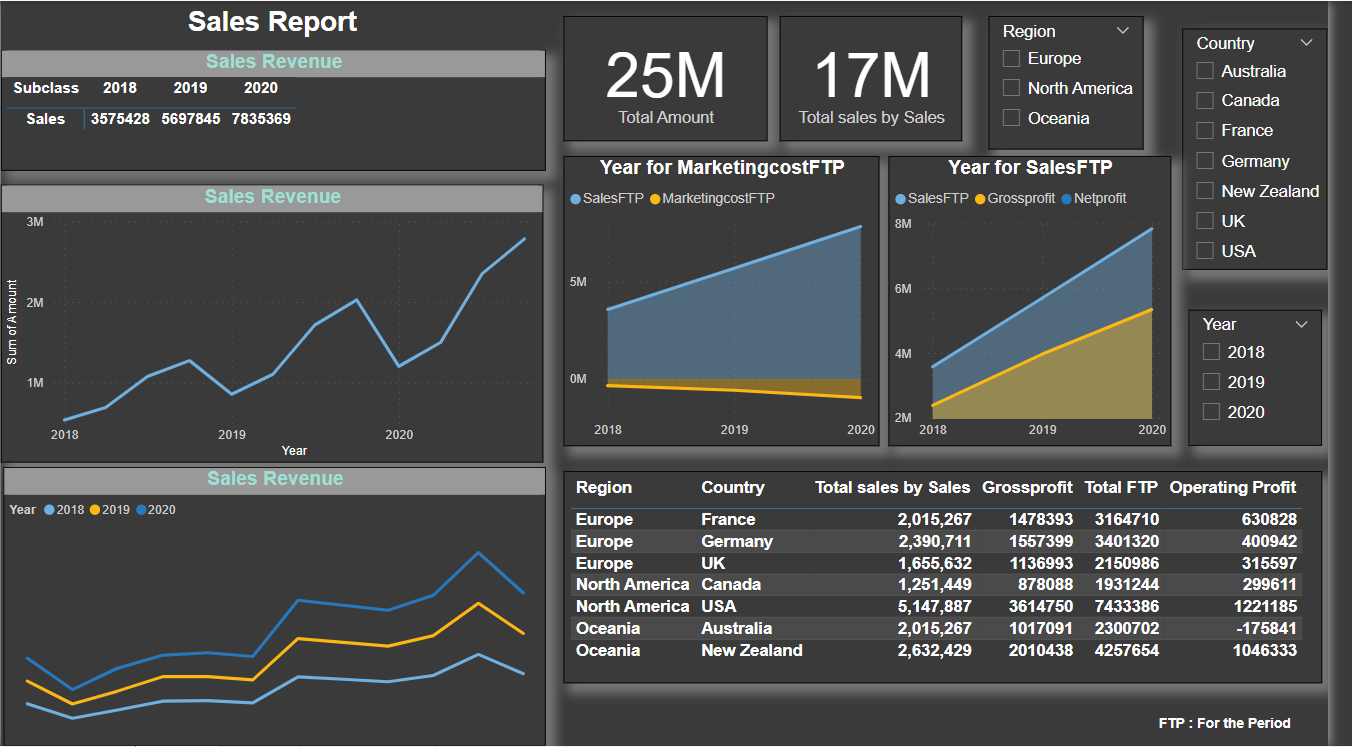

What the dashboard file says about the page in this screenshot:
{"tool":"powerbi","page":{"name":"Sales","canvas":[1280,720],"ordinal":0},"visuals":[{"type":"pivotTable","title":"Sales Revenue","fields":{"Rows":["tbl_ChartofAccounts.SubClass"],"Values":["Sum(tbl_GL.Amount)"],"Columns":["tbl_Calendar.Date.Variation.Date Hierarchy.Year","tbl_Calendar.Date.Variation.Date Hierarchy.Quarter","tbl_Calendar.Date.Variation.Date Hierarchy.Month","tbl_Calendar.Date.Variation.Date Hierarchy.Day"]},"box":[0,47,525.8,117],"z":0},{"type":"lineChart","title":"Sales Revenue","fields":{"Category":["tbl_Calendar.Date.Variation.Date Hierarchy.Year","tbl_Calendar.Date.Variation.Date Hierarchy.Quarter","tbl_Calendar.Date.Variation.Date Hierarchy.Month","tbl_Calendar.Date.Variation.Date Hierarchy.Day"],"Y":["Sum(tbl_GL.Amount)"]},"box":[0,177.3,523.4,267.7],"z":1000},{"type":"lineChart","title":"Sales Revenue","fields":{"Category":["tbl_Calendar.Date.Variation.Date Hierarchy.Year","tbl_Calendar.Date.Variation.Date Hierarchy.Quarter","tbl_Calendar.Date.Variation.Date Hierarchy.Month","tbl_Calendar.Date.Variation.Date Hierarchy.Day"],"Y":["Sum(tbl_GL.Amount)"],"Series":["tbl_Calendar.Date.Variation.Date Hierarchy.Year"]},"box":[2.4,449.8,523.4,270.2],"z":2000},{"type":"slicer","fields":{"Values":["tbl_territory.Country"]},"box":[1139.7,26.5,139.9,232.8],"z":3000},{"type":"tableEx","fields":{"Values":["tbl_territory.Region","tbl_territory.Country","All Measures.Total sales by Sales","All Measures.Grossprofit","All Measures.Total FTP","All Measures.Operating Profit"]},"box":[542.7,453.5,732.1,205],"z":4000},{"type":"card","fields":{"Values":["All Measures.Total Amount"]},"box":[542.7,14.5,196.6,120.6],"z":5000},{"type":"card","fields":{"Values":["All Measures.Total sales by Sales"]},"box":[751.4,14.5,176.1,120.6],"z":6000},{"type":"slicer","fields":{"Values":["tbl_territory.Region"]},"box":[952.8,14.5,149.5,129],"z":7000},{"type":"slicer","fields":{"Values":["tbl_Calendar.Year"]},"box":[1145.7,297.9,129,131.5],"z":8000},{"type":"textbox","box":[0,0,523.4,47],"z":9000},{"type":"areaChart","title":"Year for MarketingcostFTP ","fields":{"Category":["tbl_Calendar.Date.Variation.Date Hierarchy.Year","tbl_Calendar.Date.Variation.Date Hierarchy.Quarter","tbl_Calendar.Date.Variation.Date Hierarchy.Month","tbl_Calendar.Date.Variation.Date Hierarchy.Day"],"Y":["All Measures.SalesFTP","All Measures.MarketingcostFTP"]},"box":[542.7,149.5,305.1,279.8],"z":10000},{"type":"areaChart","title":"Year for SalesFTP","fields":{"Category":["tbl_Calendar.Date.Variation.Date Hierarchy.Year","tbl_Calendar.Date.Variation.Date Hierarchy.Quarter","tbl_Calendar.Date.Variation.Date Hierarchy.Month","tbl_Calendar.Date.Variation.Date Hierarchy.Day"],"Y":["All Measures.SalesFTP","All Measures.Grossprofit","All Measures.Netprofit"]},"box":[856.3,149.5,272.6,279.8],"z":11000},{"type":"textbox","box":[1112,685,167.6,35],"z":12000}]}

Visuals, with their boxes in screenshot pixels (x1, y1, x2, y2), scaled from the page's 1280x720 canvas onto the 1352x747 screenshot:
"Sales Revenue" pivotTable: [0,49,555,170]
"Sales Revenue" lineChart: [0,184,553,462]
"Sales Revenue" lineChart: [3,467,555,746]
slicer - tbl_territory.Country: [1204,27,1351,269]
tableEx - tbl_territory.Region x tbl_territory.Country: [573,471,1347,683]
card - All Measures.Total Amount: [573,15,781,140]
card - All Measures.Total sales by Sales: [794,15,980,140]
slicer - tbl_territory.Region: [1006,15,1164,149]
slicer - tbl_Calendar.Year: [1210,309,1346,446]
textbox: [0,0,553,49]
"Year for MarketingcostFTP " areaChart: [573,155,895,445]
"Year for SalesFTP" areaChart: [904,155,1192,445]
textbox: [1175,711,1351,746]
